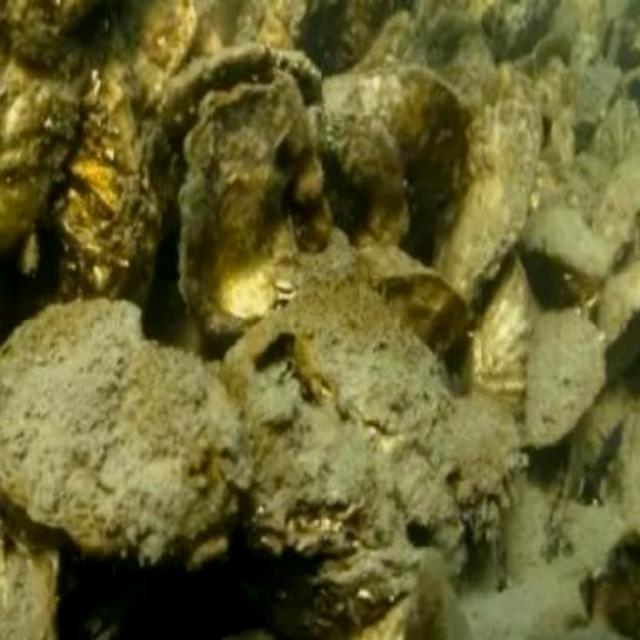Oyster-Closed: (0, 296, 461, 570), (291, 284, 529, 488), (181, 89, 307, 334), (312, 69, 476, 254), (141, 52, 322, 214), (56, 66, 162, 304), (436, 120, 541, 310), (0, 79, 85, 254), (523, 311, 605, 450), (469, 254, 531, 415), (106, 0, 196, 101), (522, 208, 616, 281), (380, 270, 459, 352), (592, 162, 640, 258), (600, 266, 640, 348)
